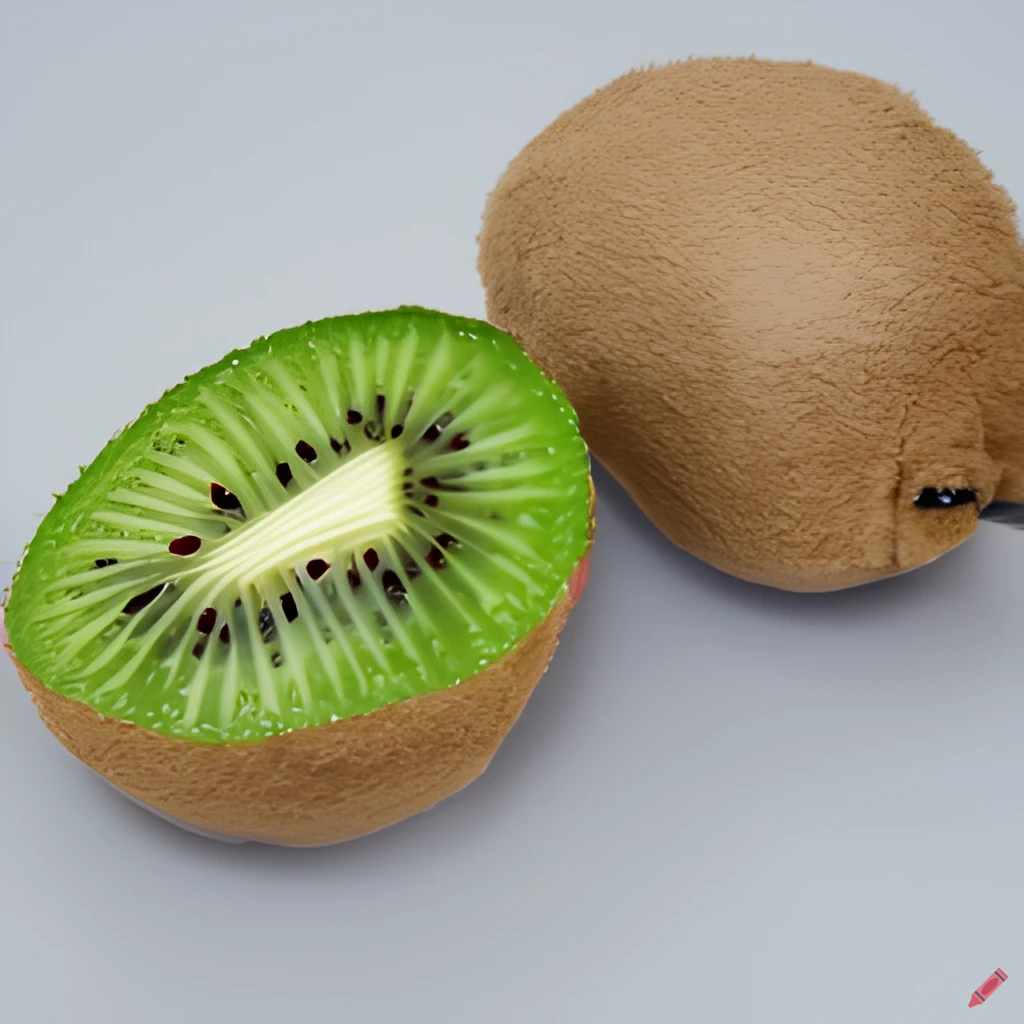Kiwi: (0, 304, 644, 857)
